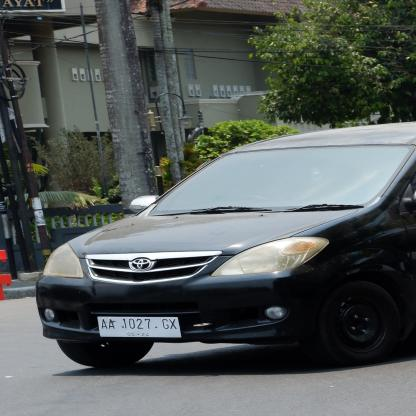Plat-Nomor: (96, 315, 183, 339)
